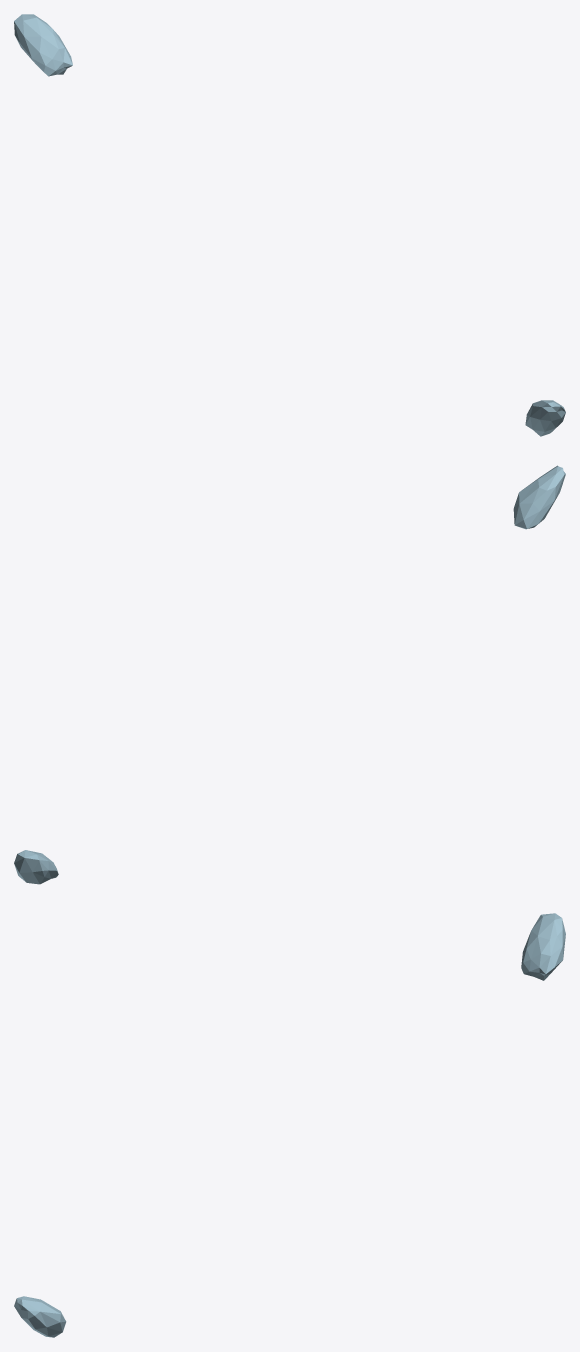
The picture shows the model from 3 angles, top to bottom: view 1: azimuth 30°, elevation 25°; view 2: azimuth 150°, elevation 25°; view 3: azimuth 330°, elevation 25°; orthographic projection.
Visible parts, largest first — view 1: 292.obj; view 2: 292.obj; view 3: 292.obj.
Part boxes in pixels (<box>): 292.obj: <box>14,14,565,436</box>; 292.obj: <box>14,465,565,884</box>; 292.obj: <box>14,913,565,1337</box>.
Size of the model in its own units: 165 by 211 by 4095.
